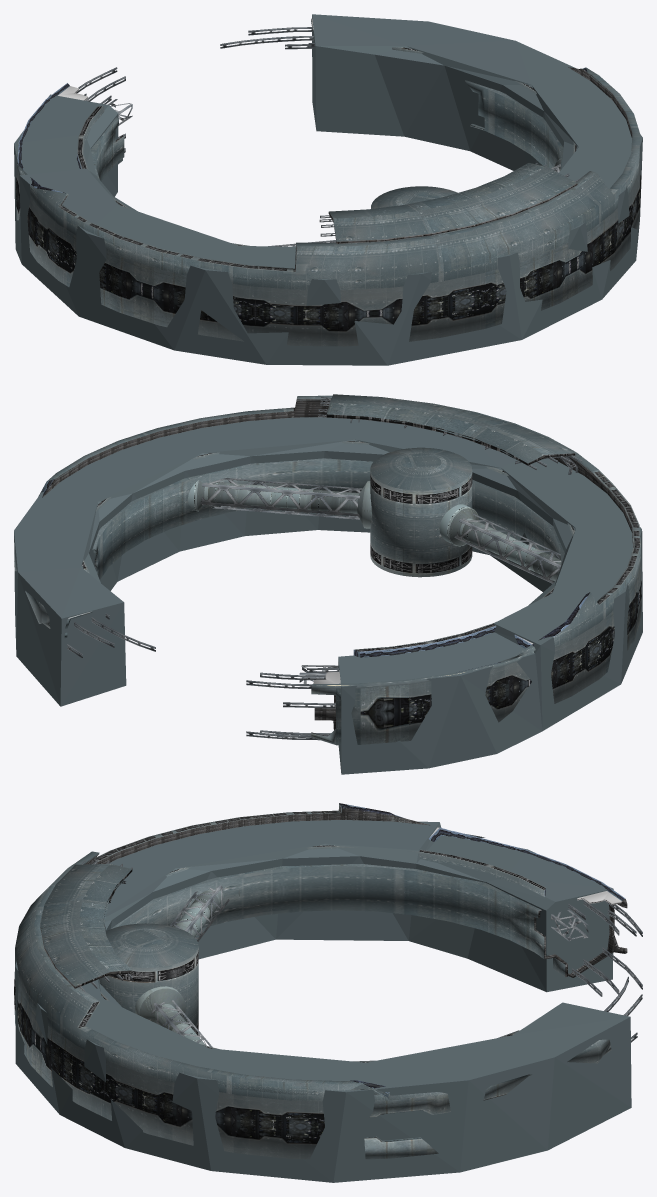
The model's file is BrokenTorus.fbx.
3 views of the same model, one above another, from view 1: azimuth 30°, elevation 25°; view 2: azimuth 150°, elevation 25°; view 3: azimuth 270°, elevation 25° (orthographic). The views are drawn at different scales.
Parts seen in each view (by area): view 1: Torus_COLLMESH, Torus_Broken, TorusUpperCollMesh; view 2: Torus_COLLMESH, Torus_Broken, TorusUpperCollMesh; view 3: Torus_COLLMESH, Torus_Broken, TorusUpperCollMesh.
Boxes of the visible parts, x1,y1,x2,y2 form: Torus_COLLMESH: (14,14,642,365); Torus_Broken: (15,18,641,346); TorusUpperCollMesh: (17,68,632,283); Torus_COLLMESH: (14,417,642,774); Torus_Broken: (14,394,641,745); TorusUpperCollMesh: (40,399,632,662); Torus_COLLMESH: (15,819,631,1182); Torus_Broken: (14,803,642,1159); TorusUpperCollMesh: (40,804,484,1095).
Size of the model in its own units: 2723 by 626 by 2627.
